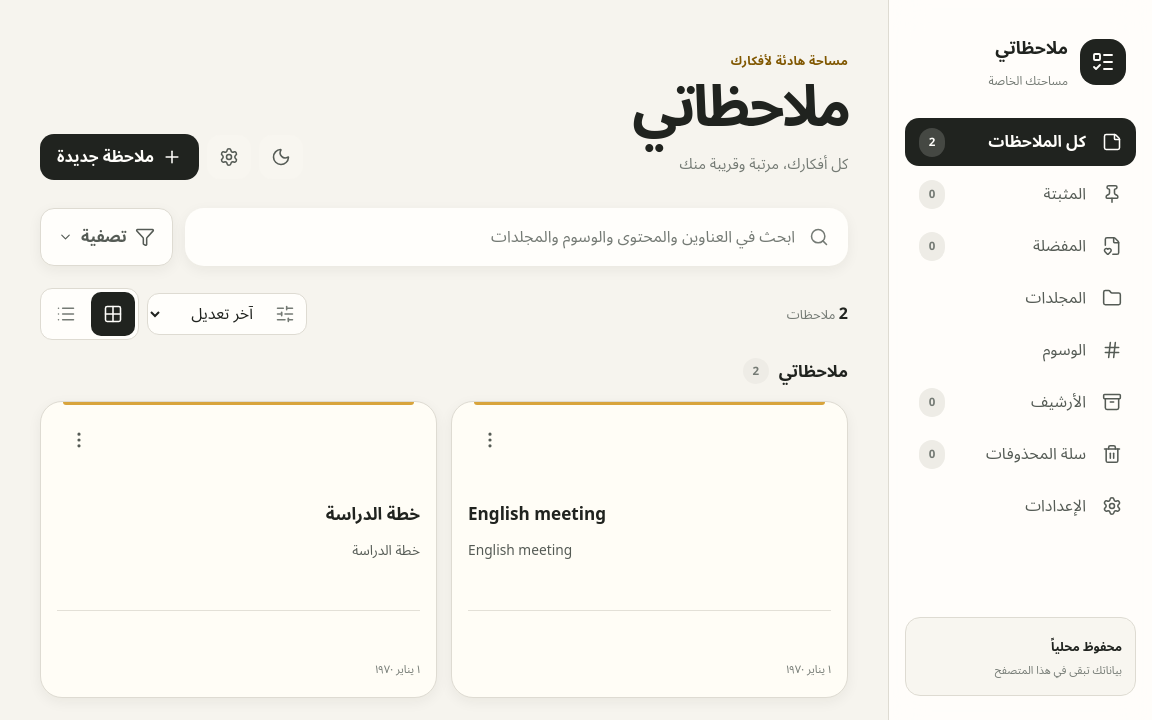
Test: application shell › searches existing Arabic and English content without navigation
The width and height of the screenshot is (1152, 720).
Step 1. Type "ENGLISH" into the search field named "البحث في الملاحظات" → [500, 237], box [204,215,797,259]
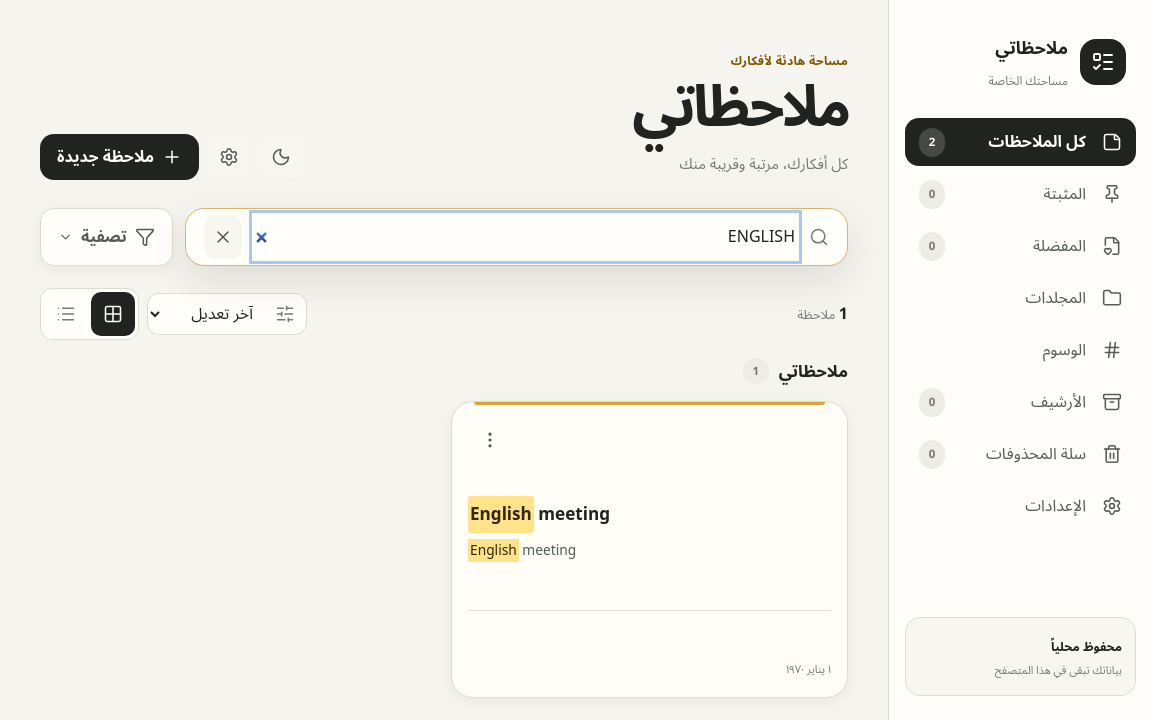
Expected: the heading "English meeting" is shown, [468,496,610,533]
Expected: the button "خطة الدراسة" is gone
